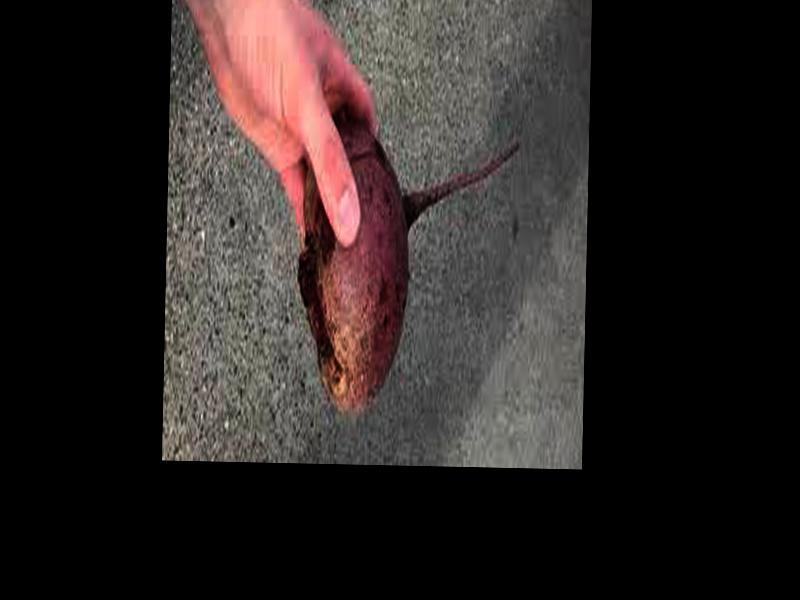Beet: (295, 127, 518, 414)
